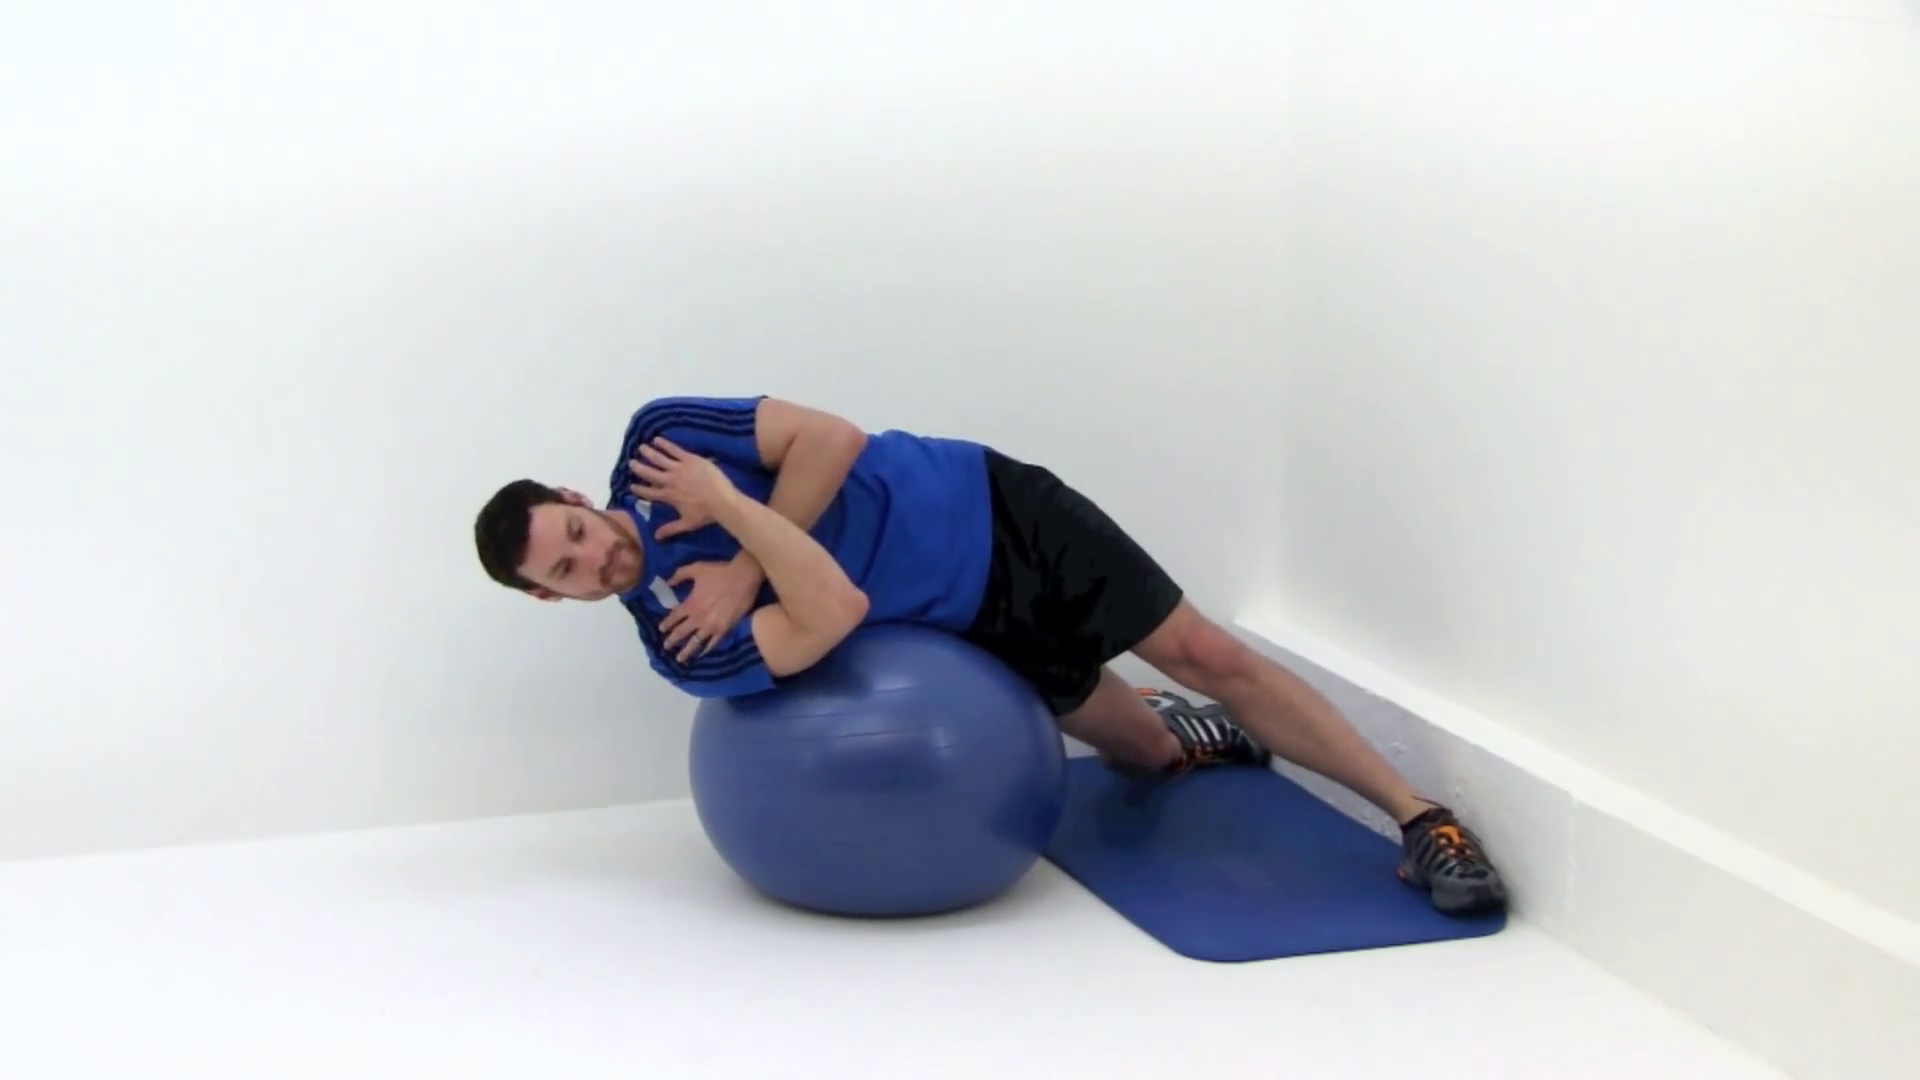yogaball: (665, 630, 1084, 942)
